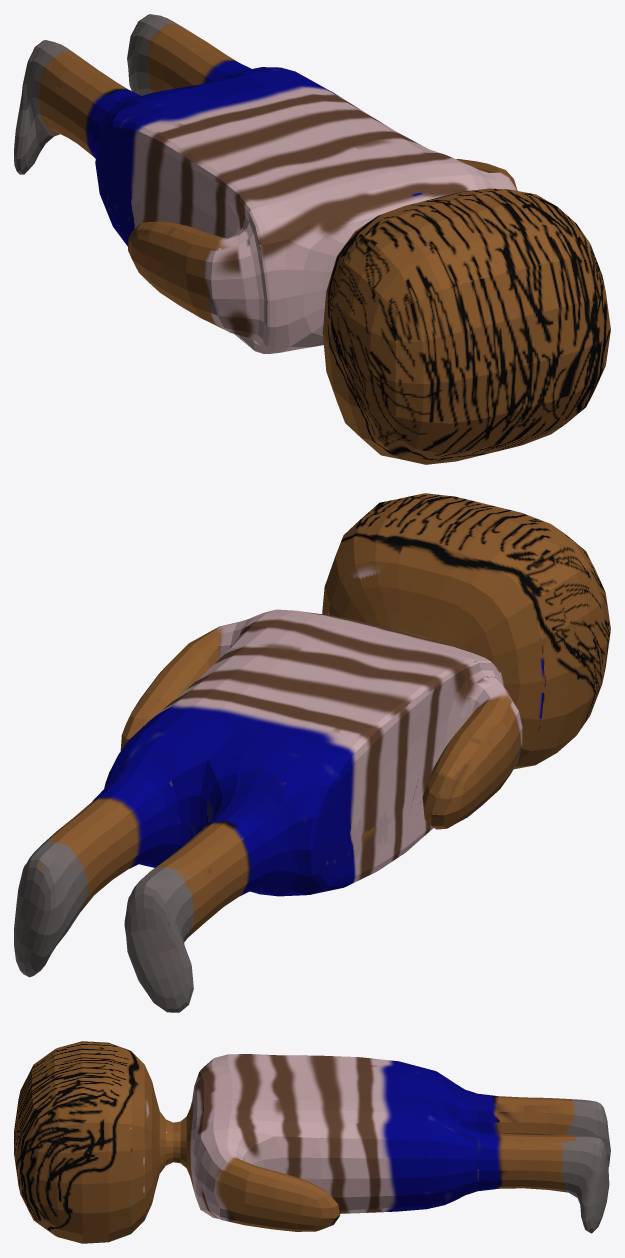
Rendered from antman_stand_2.obj.
The picture shows the model from 3 angles, top to bottom: view 1: azimuth 30°, elevation 25°; view 2: azimuth 150°, elevation 25°; view 3: azimuth 270°, elevation 25°; orthographic projection. The views are drawn at different scales.
Parts seen in each view (by area): view 1: Cube; view 2: Cube; view 3: Cube.
Boxes of the visible parts, x1=… form: Cube: x1=14, y1=14, x2=610, y2=464; Cube: x1=14, y1=493, x2=610, y2=1012; Cube: x1=14, y1=1041, x2=610, y2=1243.
Bounding box in the file's own units: 0.8773 × 0.5834 × 1.93.
